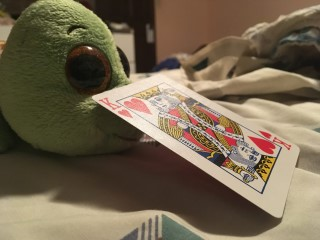KingOfHearts: (92, 74, 301, 219)
